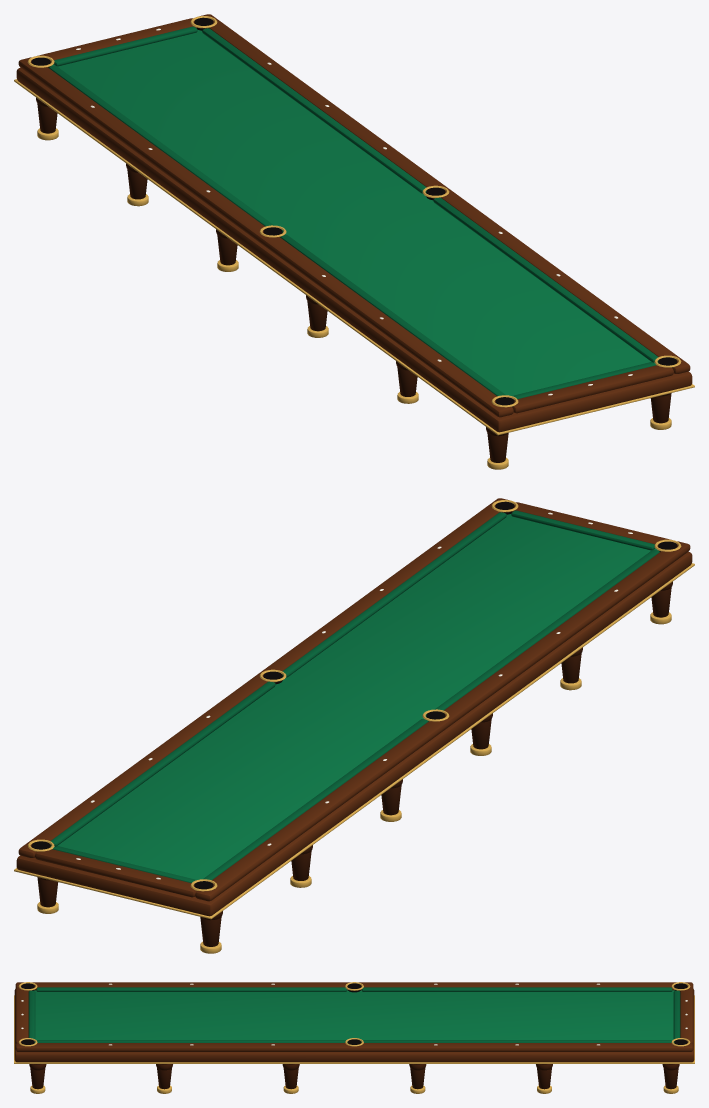
File: PlazaTable10.fbx
3 views of the same model, one above another, from view 1: azimuth 30°, elevation 25°; view 2: azimuth 150°, elevation 25°; view 3: azimuth 270°, elevation 25° (orthographic). The views are drawn at different scales.
Parts seen in each view (by area): view 1: PlazaTable10; view 2: PlazaTable10; view 3: PlazaTable10.
Boxes of the visible parts, left/top/right/bottom form: PlazaTable10: left=14, top=14, right=694, bottom=469; PlazaTable10: left=14, top=498, right=694, bottom=953; PlazaTable10: left=14, top=982, right=694, bottom=1093.
Bounding box in the file's own units: 962 × 326 × 4082.
